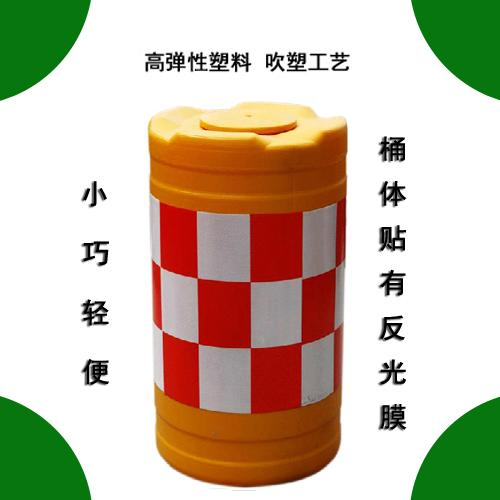sign: (131, 96, 353, 491)
